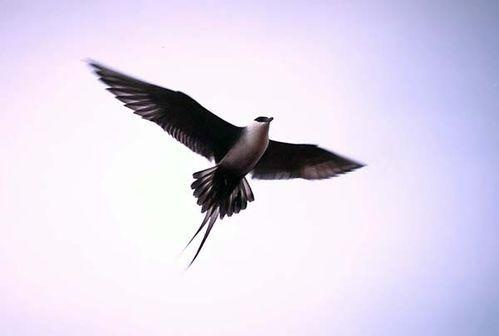bird: (84, 54, 368, 270)
